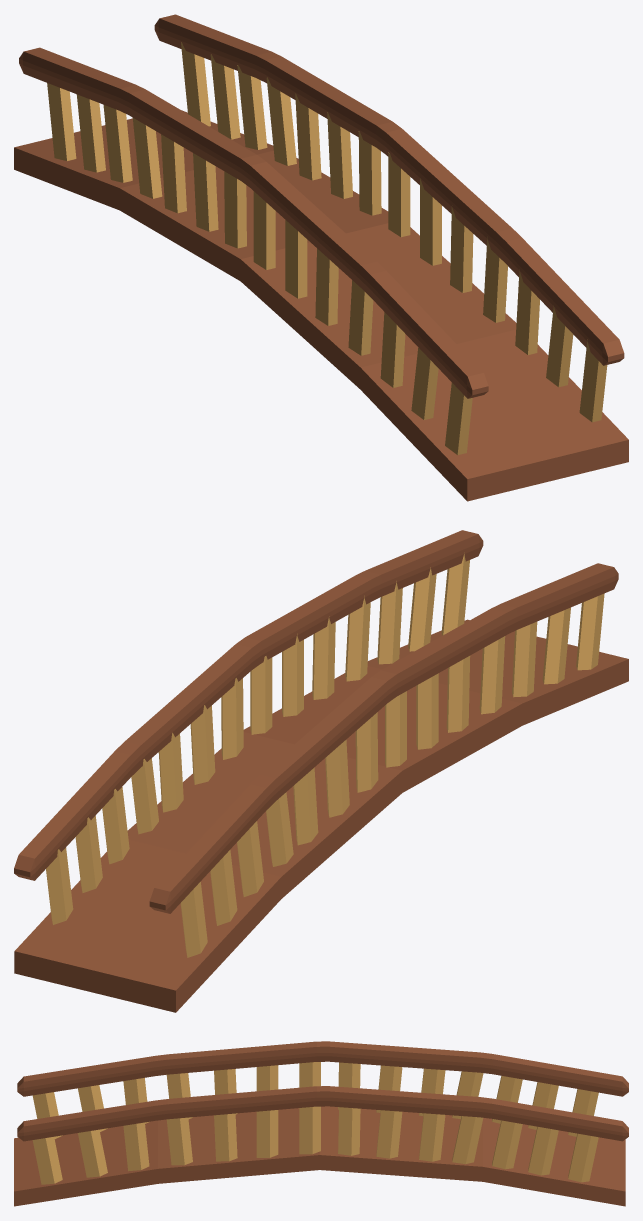
Rendered from bridge.fbx.
3 views of the same model, one above another, from view 1: azimuth 30°, elevation 25°; view 2: azimuth 150°, elevation 25°; view 3: azimuth 270°, elevation 25° (orthographic). The views are drawn at different scales.
Visible parts, largest first — view 1: Cube, Cube.001, Cube.002, Cylinder.014, Cylinder.025, Cylinder.015, Cylinder.026, Cylinder.011, Cylinder.016, Cylinder.012, Cylinder, Cylinder.013 (+19 smaller); view 2: Cube, Cube.001, Cube.002, Cylinder.021, Cylinder.022, Cylinder.020, Cylinder.018, Cylinder.010, Cylinder.009, Cylinder.017, Cylinder.023, Cylinder.007 (+19 smaller); view 3: Cube, Cube.002, Cube.001, Cylinder.014, Cylinder.019, Cylinder.016, Cylinder.015, Cylinder.017, Cylinder.026, Cylinder.025, Cylinder.027, Cylinder.021 (+19 smaller).
Part boxes in pixels (x1,y1,x2,y2): Cube: [14, 110, 628, 501]; Cube.001: [19, 47, 488, 398]; Cube.002: [154, 14, 624, 365]; Cylinder.014: [266, 78, 296, 165]; Cylinder.025: [237, 65, 267, 149]; Cylinder.015: [295, 93, 321, 180]; Cylinder.026: [210, 54, 240, 139]; Cylinder.011: [103, 104, 132, 182]; Cylinder.016: [327, 112, 352, 198]; Cylinder.012: [76, 94, 105, 172]; Cylinder: [132, 118, 162, 198]; Cylinder.013: [47, 83, 76, 160]; Cube: [14, 619, 628, 1012]; Cube.001: [149, 563, 618, 913]; Cube.002: [14, 530, 483, 880]; Cylinder.021: [345, 595, 370, 681]; Cylinder.022: [377, 581, 402, 664]; Cylinder.020: [312, 616, 335, 699]; Cylinder.018: [250, 656, 272, 734]; Cylinder.010: [576, 593, 604, 670]; Cylinder.009: [542, 607, 570, 684]; Cylinder.017: [221, 678, 243, 759]; Cylinder.023: [408, 567, 436, 651]; Cylinder.007: [479, 636, 505, 714]; Cube: [14, 1106, 625, 1206]; Cube.002: [17, 1086, 628, 1141]; Cube.001: [17, 1041, 628, 1096]; Cylinder.014: [452, 1116, 483, 1164]; Cylinder.019: [256, 1110, 278, 1157]; Cylinder.016: [376, 1110, 402, 1158]; Cylinder.015: [419, 1113, 445, 1161]; Cylinder.017: [338, 1107, 360, 1155]; Cylinder.026: [528, 1126, 558, 1175]; Cylinder.025: [492, 1120, 522, 1169]; Cylinder.027: [568, 1133, 598, 1182]; Cylinder.021: [166, 1117, 192, 1165].
Bounding box in the file's own units: 200 × 201 × 977.
